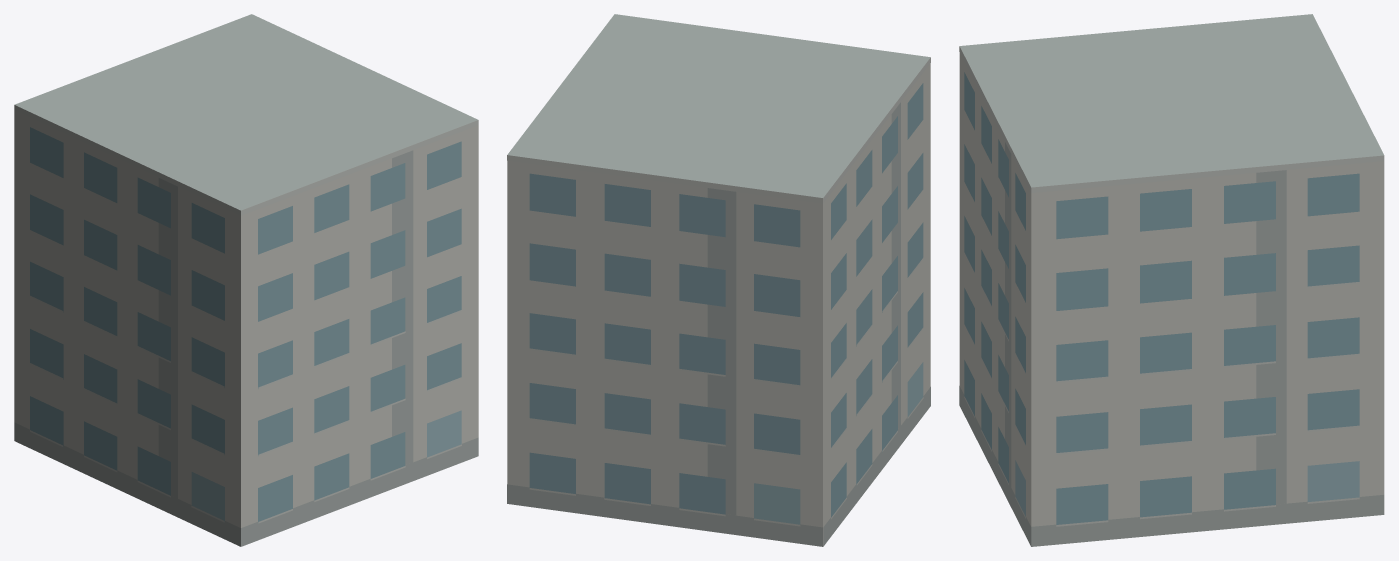
Rendered from residential-1ddec29e-330f-4094-b1b1-b83b3ba16ed2.glb.
The picture shows the model from 3 angles, left to right: view 1: azimuth 30°, elevation 25°; view 2: azimuth 150°, elevation 25°; view 3: azimuth 270°, elevation 25°; orthographic projection. The views are drawn at different scales.
Visible parts, largest first — view 1: residential-1ddec29e-330f-4094-b1b1-b83b3ba16ed2.tmp; view 2: residential-1ddec29e-330f-4094-b1b1-b83b3ba16ed2.tmp; view 3: residential-1ddec29e-330f-4094-b1b1-b83b3ba16ed2.tmp.
Boxes of the visible parts, x1,y1,x2,y2 form: residential-1ddec29e-330f-4094-b1b1-b83b3ba16ed2.tmp: [14, 14, 478, 546]; residential-1ddec29e-330f-4094-b1b1-b83b3ba16ed2.tmp: [507, 14, 930, 546]; residential-1ddec29e-330f-4094-b1b1-b83b3ba16ed2.tmp: [959, 14, 1384, 546].
Size of the model in its own units: 15.8 by 15.25 by 16.35.
